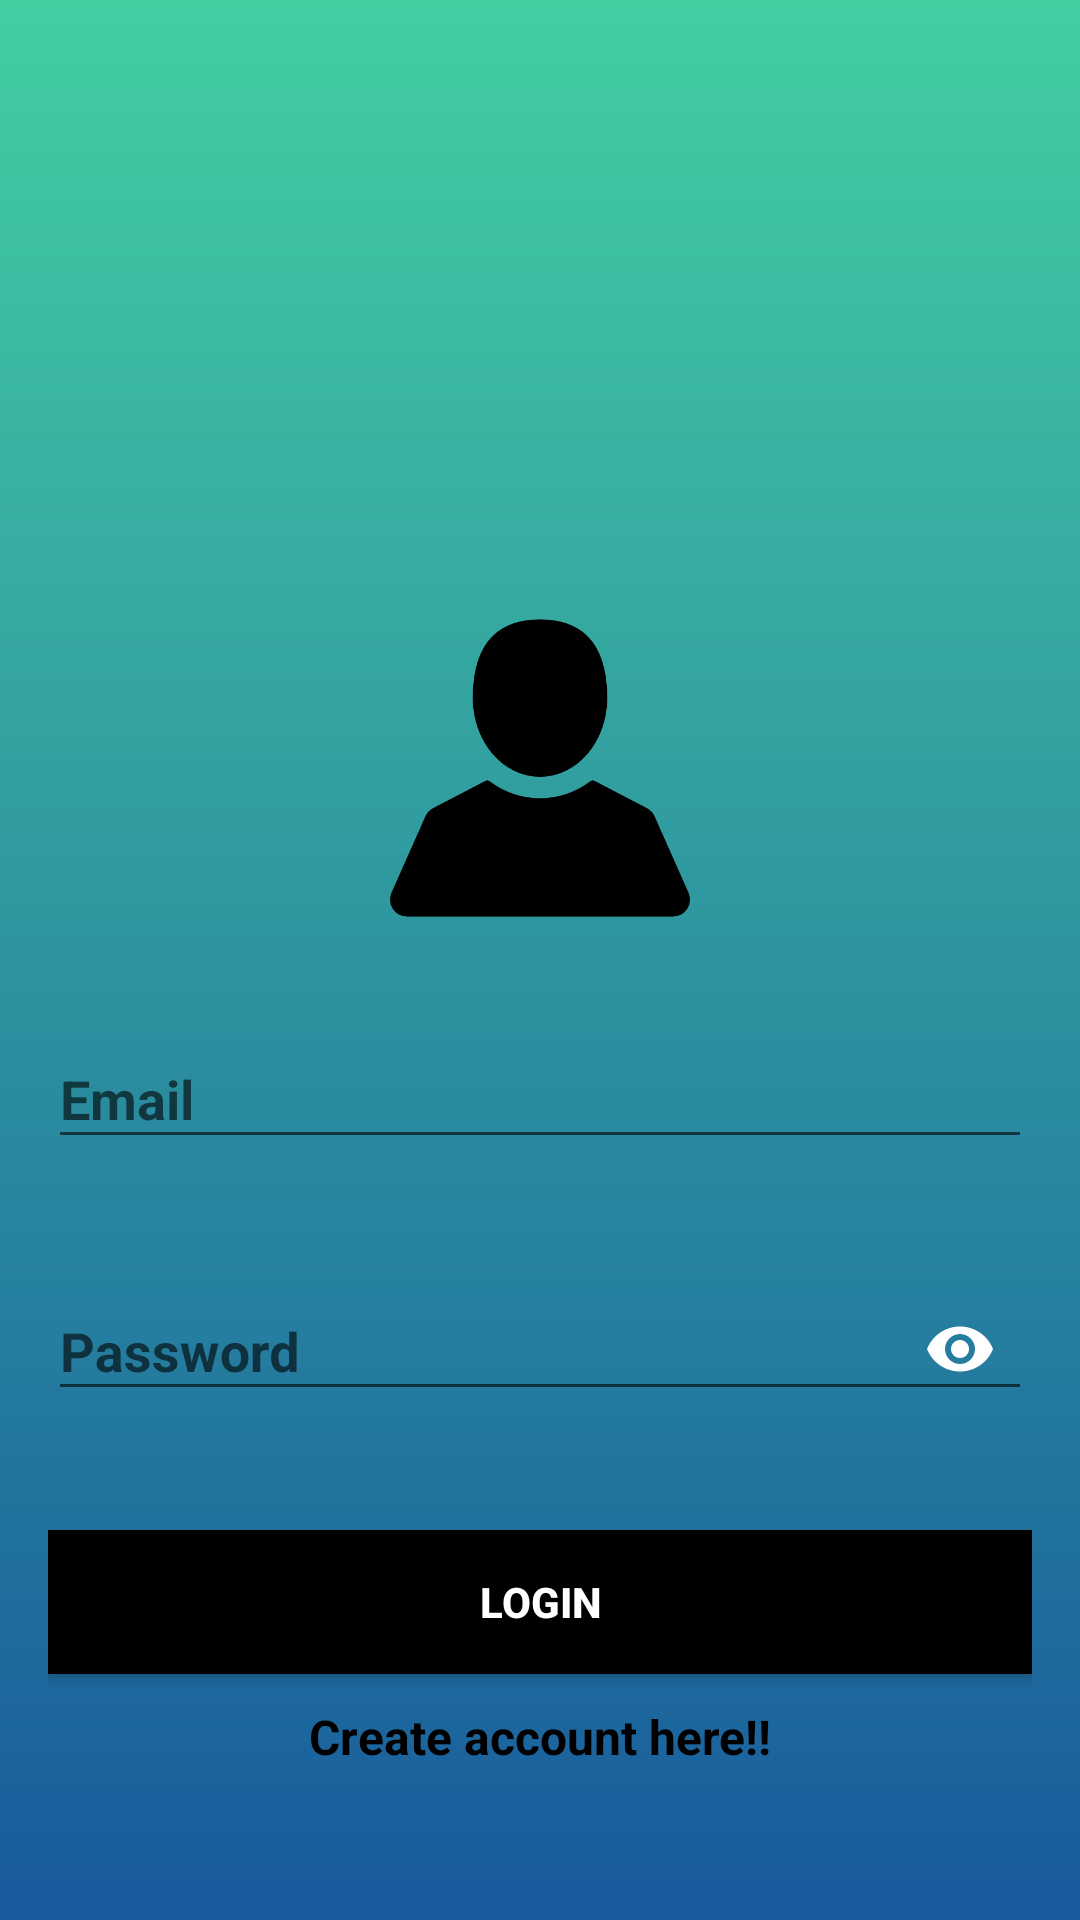

Icon bounding boxes for this 1080px×1920px phone screenshot, format (x1, y1, x2, y2):
usericon: (390, 619, 690, 917)
